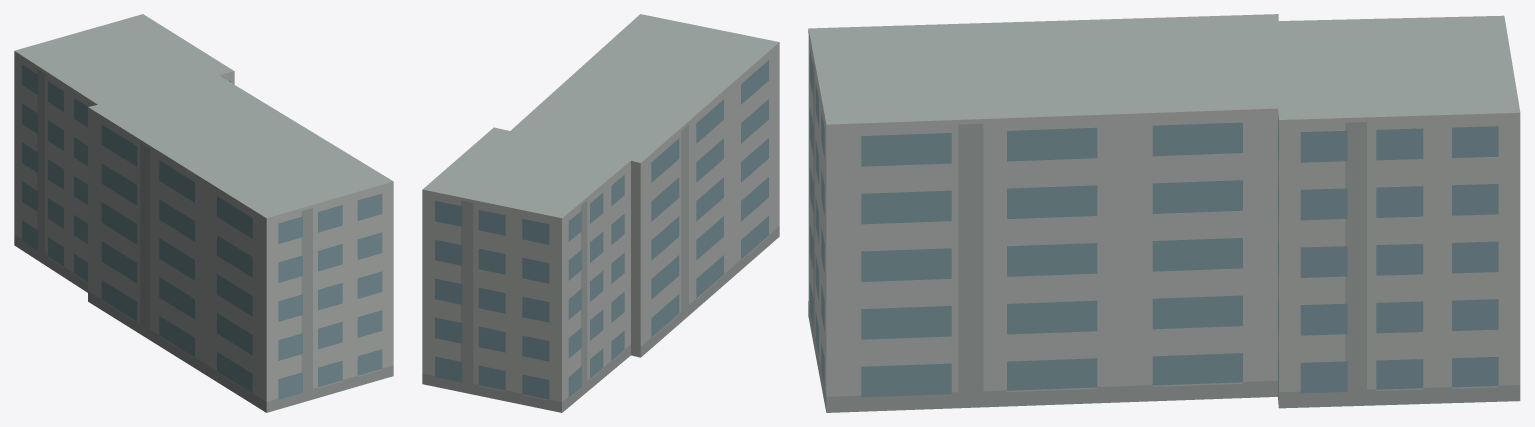
File: survey-upis-32918024.glb
3 views of the same model, side by side, from view 1: azimuth 30°, elevation 25°; view 2: azimuth 150°, elevation 25°; view 3: azimuth 270°, elevation 25° (orthographic). The views are drawn at different scales.
Parts seen in each view (by area): view 1: survey-upis-32918024.tmp; view 2: survey-upis-32918024.tmp; view 3: survey-upis-32918024.tmp.
Part boxes in pixels (x1,y1,x2,y2): survey-upis-32918024.tmp: (14, 14, 393, 412); survey-upis-32918024.tmp: (422, 14, 779, 412); survey-upis-32918024.tmp: (808, 14, 1520, 412).
Size of the model in its own units: 12.56 by 15.25 by 34.14.
